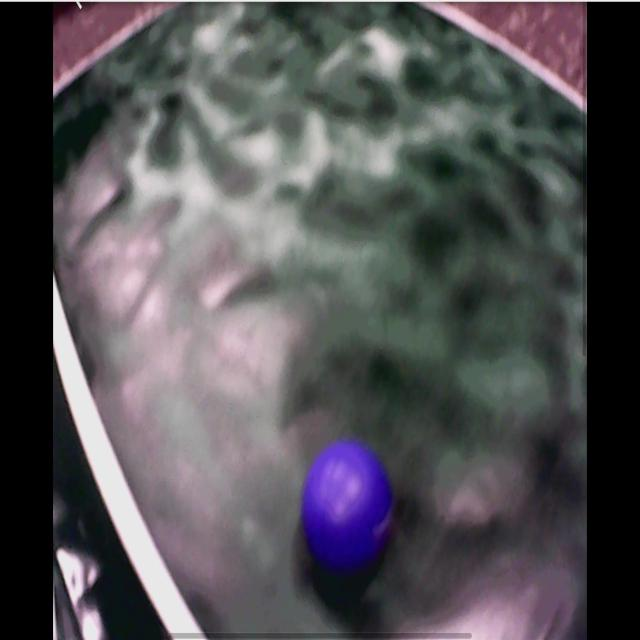ball: (307, 448, 392, 570)
